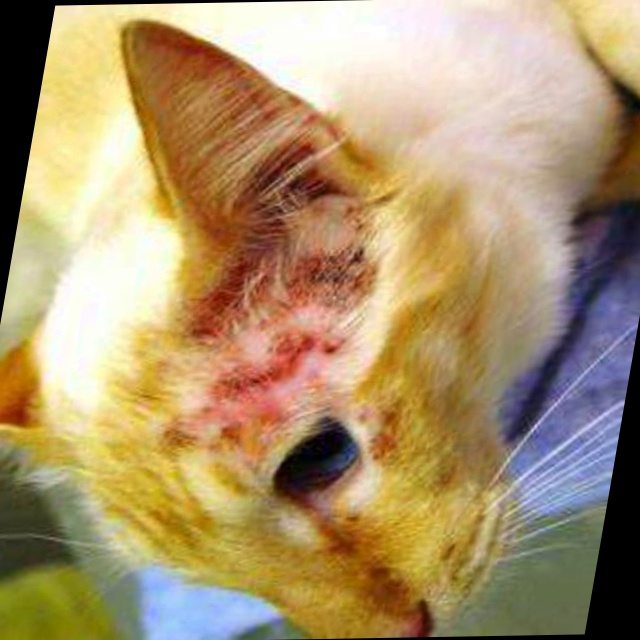ringworm: (152, 236, 379, 476)
